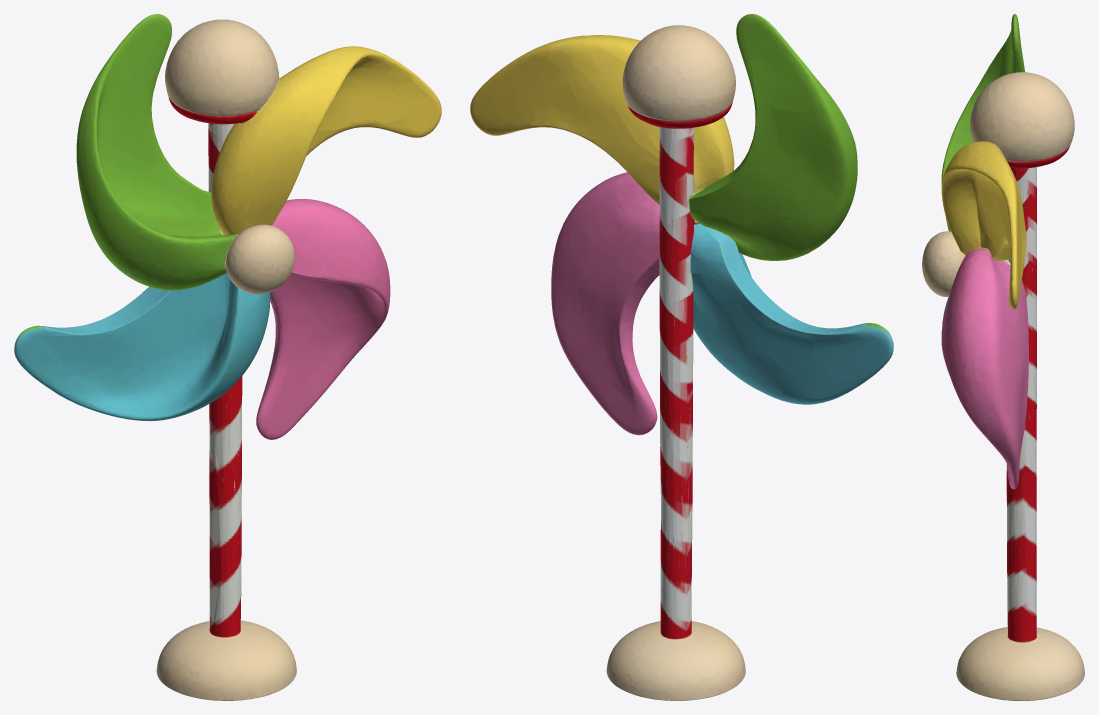
The model's file is giant-rainbow-pinwheel-v1.glb.
The picture shows the model from 3 angles, left to right: view 1: azimuth 30°, elevation 25°; view 2: azimuth 150°, elevation 25°; view 3: azimuth 270°, elevation 25°; orthographic projection. The views are drawn at different scales.
Bounding box in the file's own units: 1.25 × 1.9 × 0.4506.
Materials: 1 (1 with a texture image).
